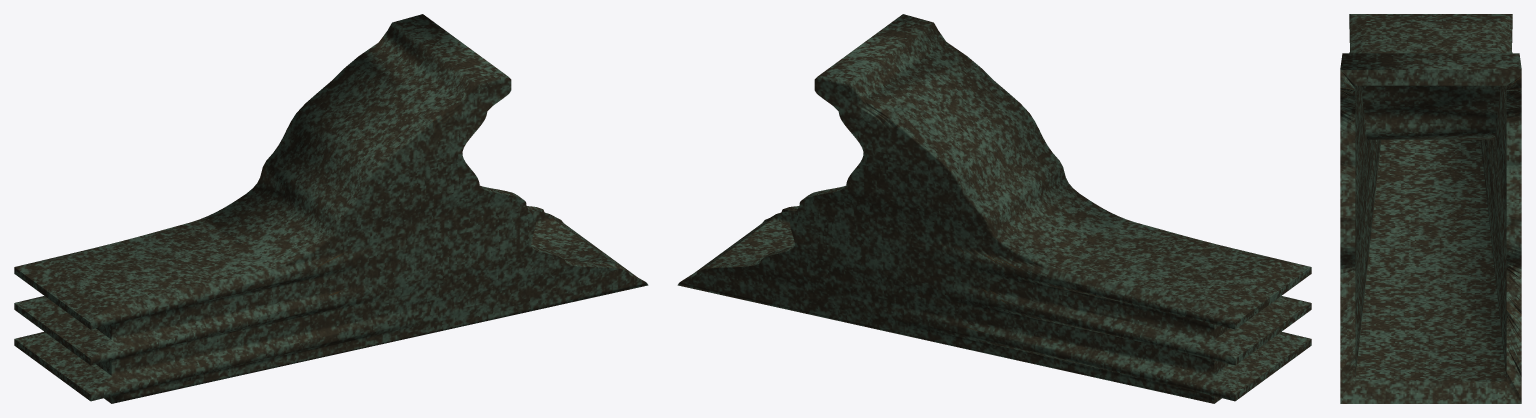
Rendered from NEW693_BronzeRam_LOD2.glb.
3 views of the same model, side by side, from view 1: azimuth 30°, elevation 25°; view 2: azimuth 150°, elevation 25°; view 3: azimuth 270°, elevation 25° (orthographic). The views are drawn at different scales.
Visible parts, largest first — view 1: Complete_bronze_ram_artifact_open_aft_socket; view 2: Complete_bronze_ram_artifact_open_aft_socket; view 3: Complete_bronze_ram_artifact_open_aft_socket.
Part boxes in pixels (x1,y1,x2,y2): Complete_bronze_ram_artifact_open_aft_socket: (14, 14, 648, 403); Complete_bronze_ram_artifact_open_aft_socket: (677, 14, 1311, 403); Complete_bronze_ram_artifact_open_aft_socket: (1340, 14, 1521, 403).
Size of the model in its own units: 2.26 by 0.95 by 0.6.
Materials: 1 (1 with a texture image).
